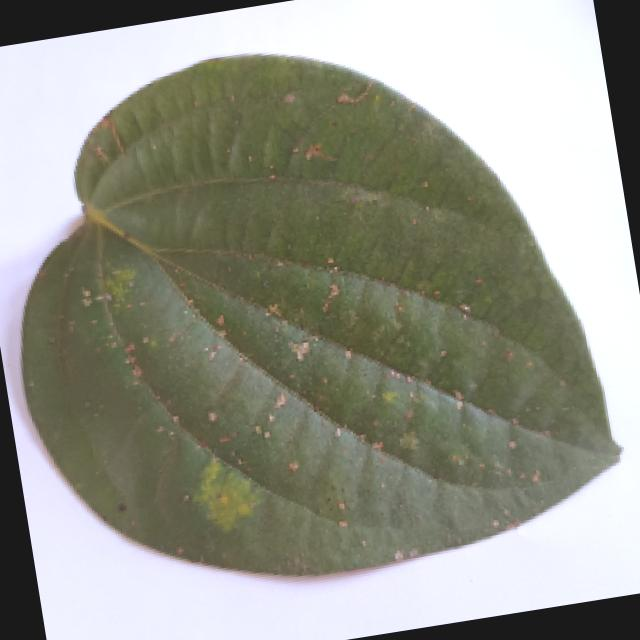pollu-disease: (0, 4, 623, 615)
